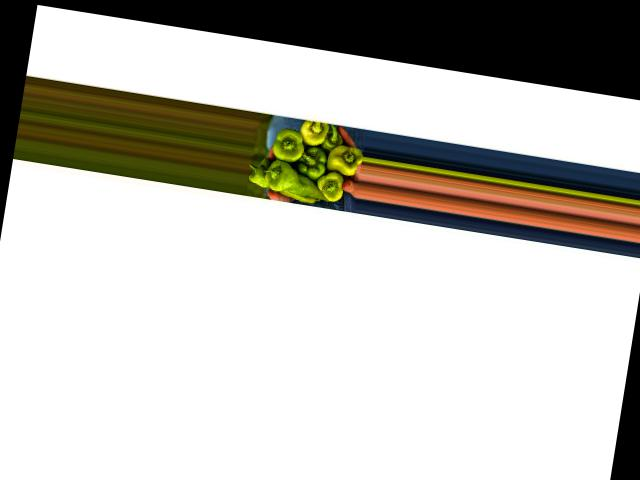bell_pepper: (324, 139, 363, 175)
